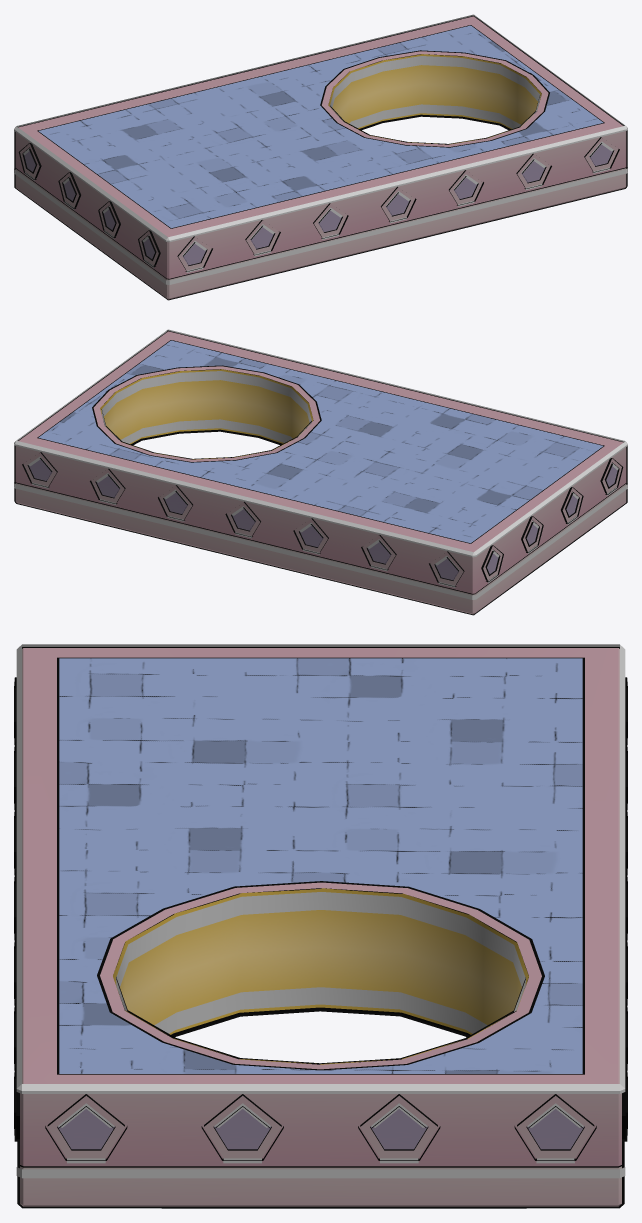
Rendered from Rooms_Paradise_Roof01Hole_Art.fbx.
The picture shows the model from 3 angles, top to bottom: view 1: azimuth 30°, elevation 25°; view 2: azimuth 150°, elevation 25°; view 3: azimuth 270°, elevation 25°; orthographic projection. The views are drawn at different scales.
Parts seen in each view (by area): view 1: Rooms_Paradise_Roof01Hole_Art, Rooms_Paradise_Roof01Hole_Shadows, Rooms_Paradise_Roof01Hole_Outliner; view 2: Rooms_Paradise_Roof01Hole_Art, Rooms_Paradise_Roof01Hole_Shadows, Rooms_Paradise_Roof01Hole_Outliner; view 3: Rooms_Paradise_Roof01Hole_Art, Rooms_Paradise_Roof01Hole_Shadows, Rooms_Paradise_Roof01Hole_Outliner.
Boxes of the visible parts, x1,y1,x2,y2 form: Rooms_Paradise_Roof01Hole_Art: [15, 16, 626, 299]; Rooms_Paradise_Roof01Hole_Shadows: [14, 14, 627, 284]; Rooms_Paradise_Roof01Hole_Outliner: [14, 16, 627, 300]; Rooms_Paradise_Roof01Hole_Art: [15, 331, 626, 614]; Rooms_Paradise_Roof01Hole_Shadows: [14, 329, 627, 599]; Rooms_Paradise_Roof01Hole_Outliner: [14, 331, 627, 615]; Rooms_Paradise_Roof01Hole_Art: [16, 648, 625, 1206]; Rooms_Paradise_Roof01Hole_Shadows: [16, 644, 625, 1178]; Rooms_Paradise_Roof01Hole_Outliner: [14, 647, 627, 1208].
Size of the model in its own units: 985 by 128 by 572.
